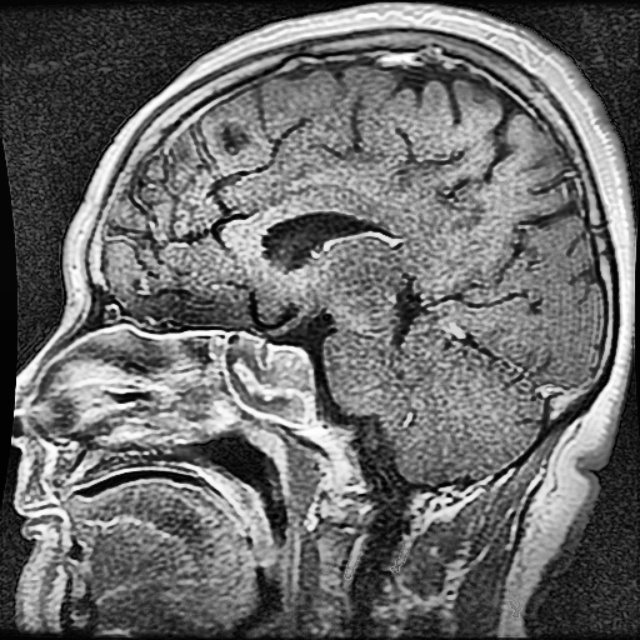Pituitary: (267, 347, 312, 389)
